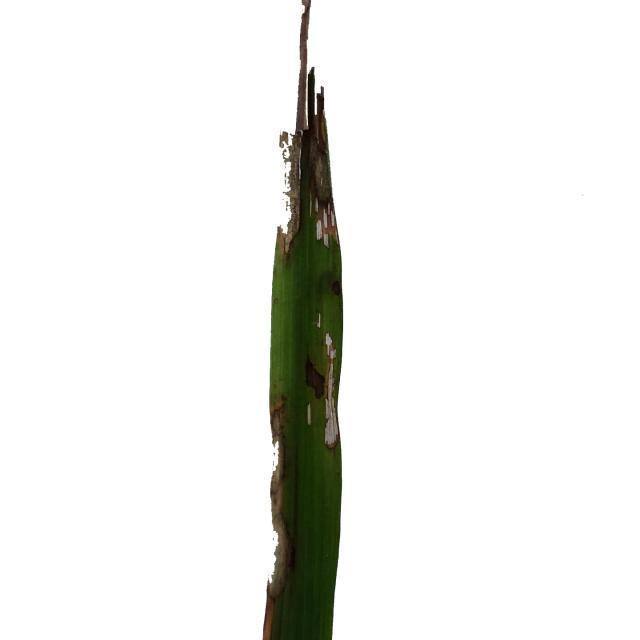Bacterial_Leaf_Blight: (282, 0, 342, 265), (266, 416, 295, 640), (293, 339, 340, 449)
